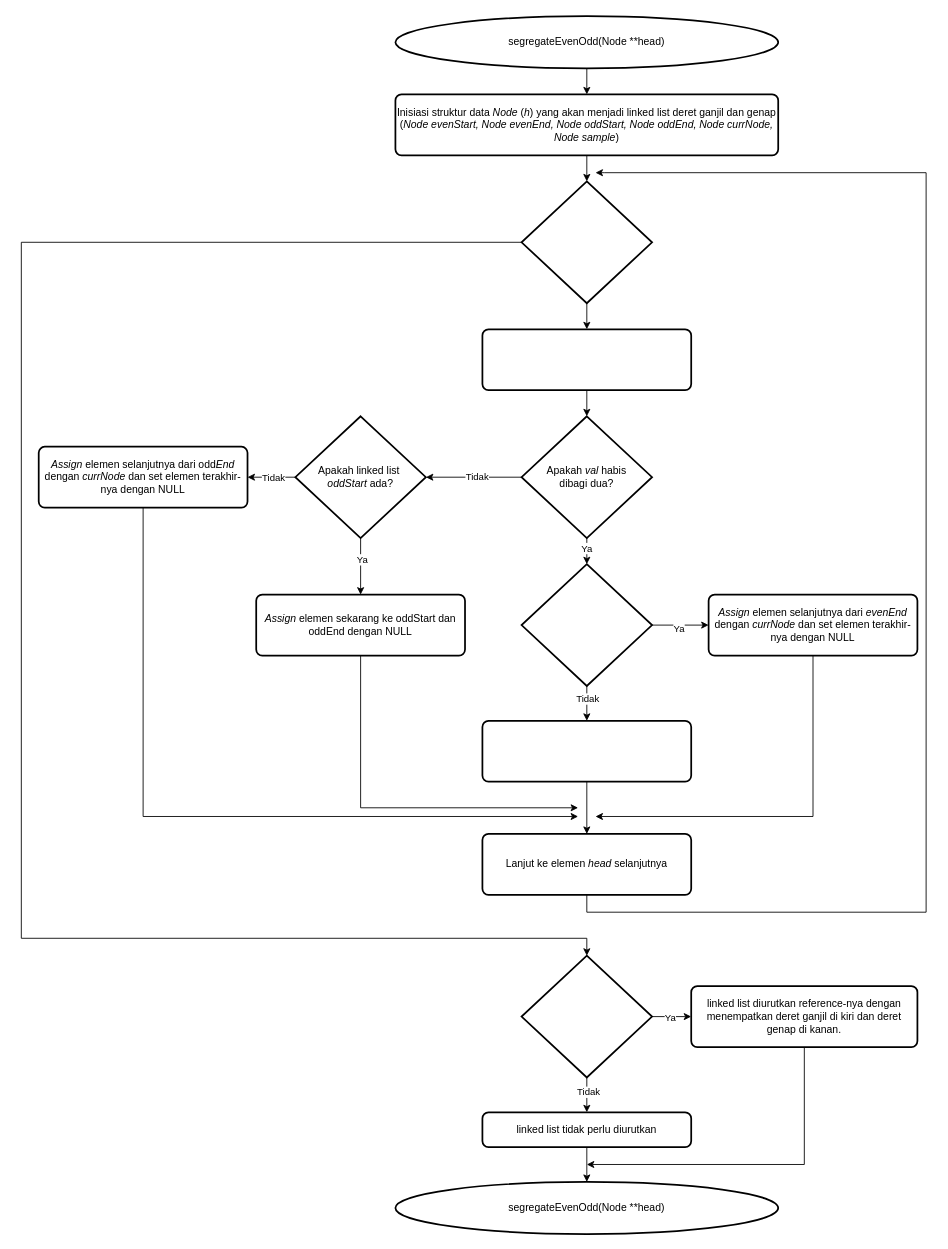
This 948x1249 diagram has some shape labels left out. Here are the shapes that lost their labels. From the top down, the box of each, then its label:
(520, 180, 652, 304): Apakah elemen currNode saat ini ada?
(481, 328, 692, 391): Inisiasi variabel untuk menyimpan data nilai pada elemen linked list, val
(520, 563, 652, 686): Apakah linked list evenStart ada?
(481, 719, 692, 782): Assign elemen sekarang ke evenStart dan evenEnd dengan NULL
(520, 954, 652, 1078): Apakah ada deret ganjil / genap pada input?
